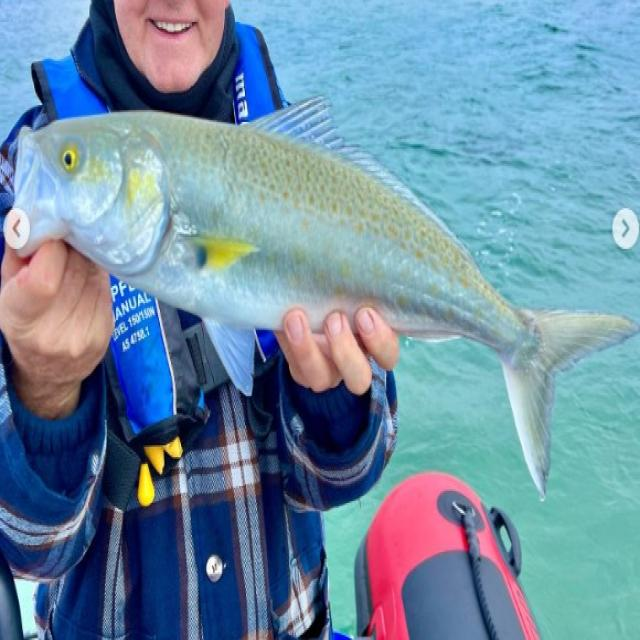Australian Salmon: (7, 58, 640, 513)
